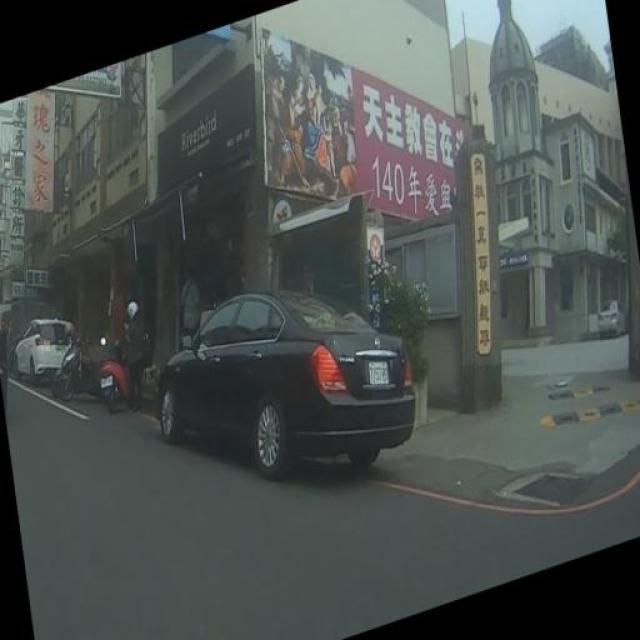Legalparking: (91, 237, 476, 496)
